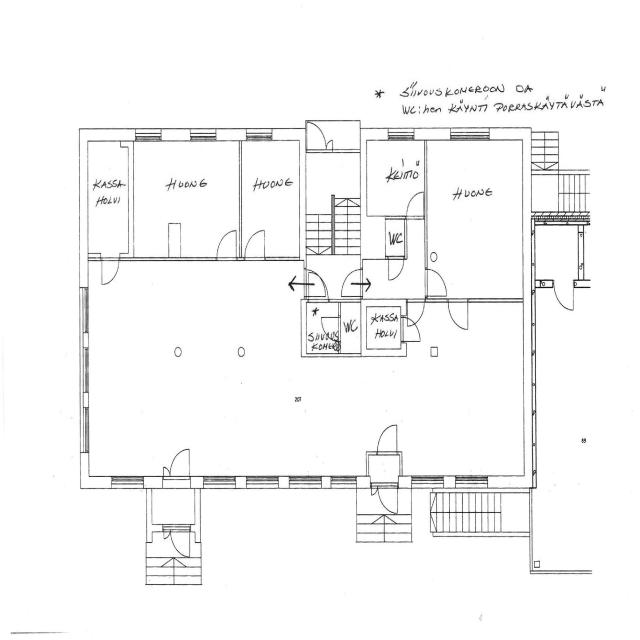door: (166, 445, 194, 484), (243, 223, 269, 260), (304, 120, 332, 153), (446, 294, 470, 332), (374, 421, 400, 456), (423, 265, 448, 301), (215, 224, 240, 258), (374, 482, 399, 515), (98, 253, 121, 286), (552, 280, 576, 311), (167, 528, 190, 558), (307, 268, 330, 298), (406, 295, 426, 329), (402, 313, 423, 344), (406, 189, 426, 220), (342, 263, 362, 293), (386, 255, 406, 282)
window: (526, 330, 540, 454), (232, 471, 292, 492), (76, 402, 93, 458), (77, 280, 92, 342), (108, 471, 147, 493), (212, 126, 250, 142), (157, 127, 194, 143), (528, 237, 538, 274), (386, 132, 414, 142)
zone: (80, 259, 304, 469), (400, 300, 532, 490), (425, 135, 525, 300), (130, 136, 242, 258), (241, 134, 301, 261), (84, 133, 133, 257), (363, 138, 425, 217), (532, 221, 584, 284), (302, 152, 360, 201), (364, 297, 404, 355), (305, 301, 339, 355), (339, 298, 362, 353)
